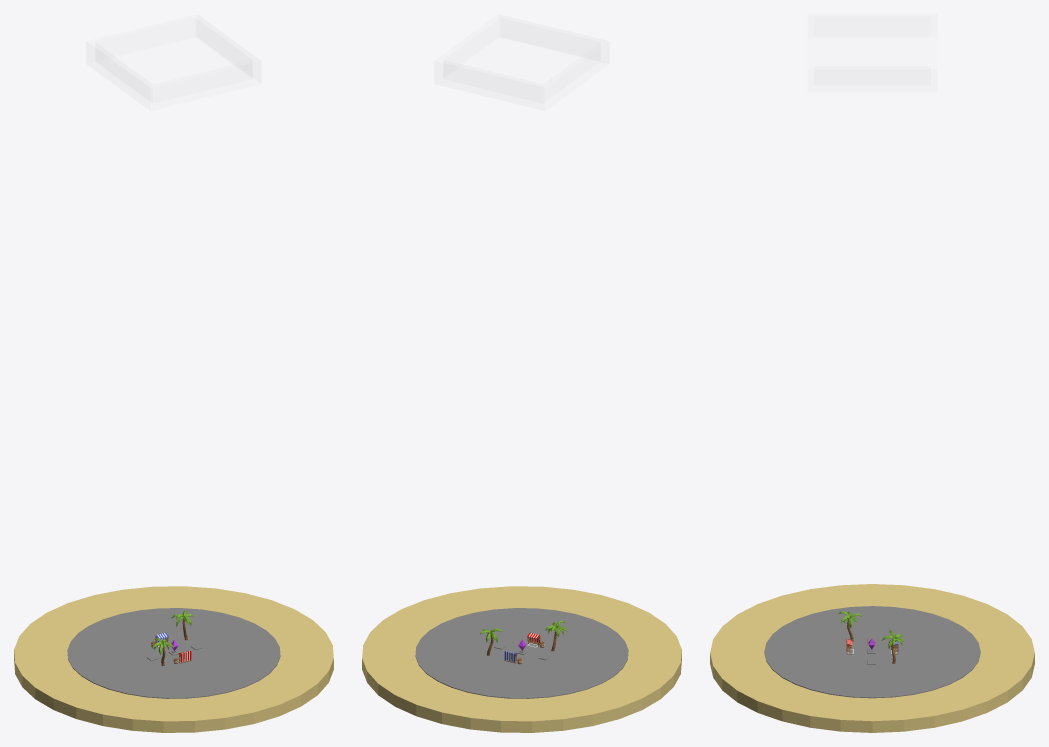
File: laststandmap.glb
3 views of the same model, side by side, from view 1: azimuth 30°, elevation 25°; view 2: azimuth 150°, elevation 25°; view 3: azimuth 270°, elevation 25° (orthographic).
Parts seen in each view (by area): view 1: Circle.001, Circle, waiting room; view 2: Circle.001, Circle, waiting room; view 3: Circle.001, Circle, waiting room.
Boxes of the visible parts, x1,y1,x2,y2 form: Circle.001: [14, 586, 333, 732]; Circle: [67, 608, 280, 698]; waiting room: [95, 43, 252, 102]; Circle.001: [362, 586, 681, 732]; Circle: [415, 608, 628, 698]; waiting room: [443, 43, 600, 102]; Circle.001: [710, 584, 1034, 732]; Circle: [764, 606, 980, 698]; waiting room: [814, 66, 930, 85].
Bounding box in the file's own units: 75 × 160 × 75.
Materials: 12 (1 with a texture image).
